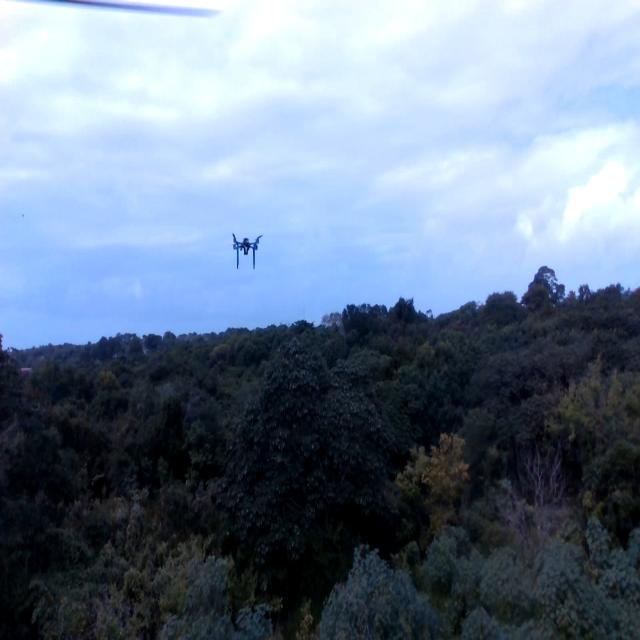-uav-: (226, 221, 268, 277)
